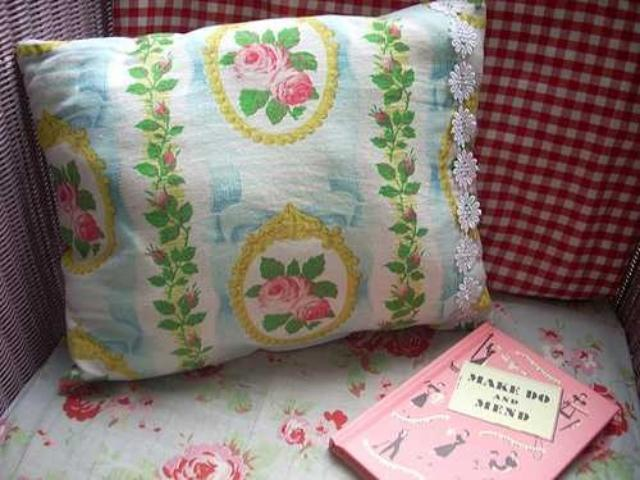pillow: (13, 0, 493, 381)
